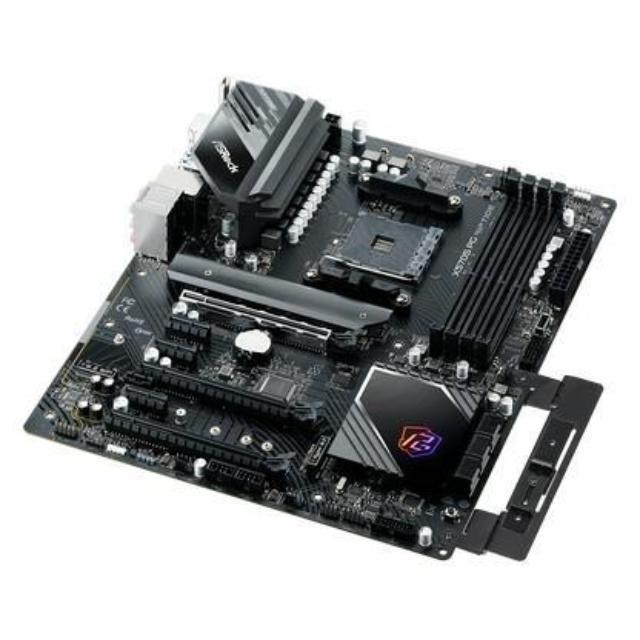Mainboard: (17, 72, 628, 570)
